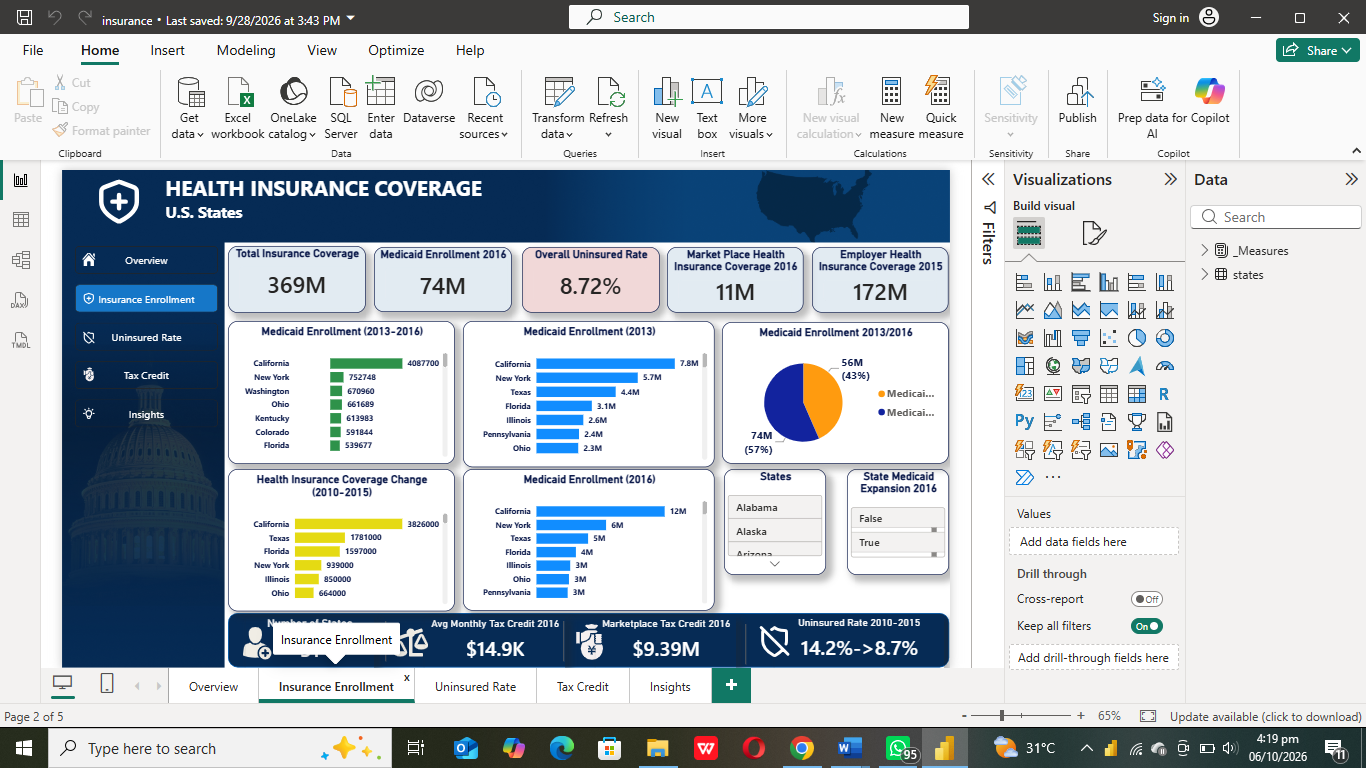

This screenshot's page, from the dashboard's own definition file:
{"tool":"powerbi","page":{"name":"Insurance Enrollment","canvas":[1366,768],"ordinal":1},"visuals":[{"type":"clusteredBarChart","title":"Medicaid Enrollment (2013-2016)","fields":{"Category":["states.State"],"Y":["Sum(states.Medicaid Enrollment Change (2013-2016))"]},"box":[255.4,232.3,349.1,220],"z":0,"group":"g6"},{"type":"shape","box":[254.7,682.1,1109.5,83.7],"z":0},{"type":"clusteredBarChart","title":"Medicaid Enrollment (2013)","fields":{"Category":["states.State"],"Y":["Sum(states.Medicaid Enrollment (2013))"]},"box":[617.5,232.3,386.8,224.5],"z":1000,"group":"g6"},{"type":"shape","box":[732,694.6,79,62.2],"z":1000},{"type":"clusteredBarChart","title":"Health Insurance Coverage Change (2010-2015)","fields":{"Category":["states.State"],"Y":["Sum(states.Health Insurance Coverage Change (2010-2015))"]},"box":[255.6,459.5,349.1,218.9],"z":2000,"group":"g6"},{"type":"shape","box":[1011.6,698.1,79,62.2],"z":2000},{"type":"cardVisual","title":"States","fields":{"Rows":["states.State"]},"box":[1018.4,459.9,157.2,163],"z":3000,"group":"g6"},{"type":"shape","box":[457.7,694.6,79,62.2],"z":3000},{"type":"cardVisual","title":"State Medicaid Expansion 2016","fields":{"Rows":["states.State Medicaid Expansion (2016)"]},"box":[1207.4,459.9,157.2,163],"z":4000,"group":"g6"},{"type":"group","id":"g1","title":"Group 8","box":[276.1,697,50.4,62.2],"z":4000},{"type":"clusteredBarChart","title":"Medicaid Enrollment (2016)","fields":{"Category":["states.State"],"Y":["Sum(states.Medicaid Enrollment (2016))"]},"box":[617.5,459.9,386.8,218.4],"z":5000,"group":"g6"},{"type":"group","id":"g2","title":"Group 9","box":[504,699.9,64.1,53.4],"z":5000},{"type":"pieChart","title":"Medicaid Enrollment 2013/2016","fields":{"Y":["_Measures.Medicaid enrollment 2013","_Measures.Medicaid enrollment 2016"]},"box":[1015.3,234.1,349.3,217.9],"z":6000,"group":"g6"},{"type":"group","id":"g3","title":"Group 10","box":[765.8,698.1,90.8,55.2],"z":6000},{"type":"group","id":"g4","title":"Group 11","box":[1050.8,696.4,92.6,55.2],"z":7000},{"type":"cardVisual","title":"Avg Monthly Tax Credit 2016","fields":{"Data":["_Measures.Total Average Monthly Tax Credit 2016"]},"box":[559.2,687.5,216.5,80],"z":8000},{"type":"cardVisual","title":"Number of States","fields":{"Data":["_Measures.total states"]},"box":[283.2,687.4,196.5,80.6],"z":9000},{"type":"cardVisual","title":"Marketplace Tax Credit 2016","fields":{"Data":["_Measures.Total Marketplace Tax Credit 2016"]},"box":[821,687.5,216.5,80],"z":10000},{"type":"cardVisual","title":"Uninsured Rate 2010-2015","fields":{"Data":["_Measures.Uninsured Rate"]},"box":[1097.1,685.7,260,80.1],"z":11000},{"type":"textbox","box":[153.3,0,860,103.3],"z":12000},{"type":"group","id":"g5","title":"Group 2","box":[255.4,116.9,1109.2,103.1],"z":13000},{"type":"cardVisual","title":"Total Insurance Coverage","fields":{"Data":["_Measures.total insurance coverage"]},"box":[255.4,116.9,211.9,102.6],"z":14000,"group":"g5"},{"type":"group","id":"g6","title":"Group 1","box":[255.4,232.3,1109.2,446.2],"z":14000},{"type":"pageNavigator","box":[20,116.9,220,281.5],"z":15000},{"type":"cardVisual","title":"Overall Uninsured Rate ","fields":{"Data":["Avg(states.Uninsured Rate (2015))"]},"box":[707.6,118.7,211.8,101.3],"z":15000,"group":"g5"},{"type":"image","box":[30.5,123.8,21.2,29.1],"z":16000},{"type":"image","box":[765.8,698.1,90.7,55.4],"z":16000,"group":"g3"},{"type":"cardVisual","title":"Employer Health Insurance Coverage  2015","fields":{"Data":["_Measures.Employer Health Insurance Coverage 2015"]},"box":[1154.5,118.7,210.1,100.8],"z":17000,"group":"g5"},{"type":"image","box":[30.5,183.4,21.2,29.1],"z":17000},{"type":"image","box":[276.1,697,50.4,62.2],"z":17000,"group":"g1"},{"type":"cardVisual","title":"Market Place Health Insurance Coverage 2016","fields":{"Data":["_Measures.Market Place Health Insurance 2016"]},"box":[930.2,118.7,210.1,100.8],"z":18000,"group":"g5"},{"type":"image","box":[30.4,242.5,21.2,29.1],"z":18000},{"type":"image","box":[504,699.9,63.8,53.8],"z":18000,"group":"g2"},{"type":"cardVisual","title":"Medicaid Enrollment 2016","fields":{"Data":["_Measures.Medicaid enrollment 2016"]},"box":[479.7,118.7,211.8,100],"z":19000,"group":"g5"},{"type":"image","box":[30.3,300,21.2,29.1],"z":19000},{"type":"image","box":[30.7,359.5,21.2,29.1],"z":20000},{"type":"image","box":[30.8,7,113.8,81.5],"z":21000},{"type":"image","box":[1050.8,696.4,90.7,55.4],"z":23000,"group":"g4"}]}

Visuals, with their boxes on the page's 1366x768 design canvas (x1, y1, x2, y2). These are canvas units, not pixel positions in the 1366x768 screenshot, which may show the page scaled, cropped or inside an application window:
"Medicaid Enrollment (2013-2016)" clusteredBarChart: bbox=(255, 232, 604, 452)
shape: bbox=(255, 682, 1364, 766)
"Medicaid Enrollment (2013)" clusteredBarChart: bbox=(618, 232, 1004, 457)
shape: bbox=(732, 695, 811, 757)
"Health Insurance Coverage Change (2010-2015)" clusteredBarChart: bbox=(256, 460, 605, 678)
shape: bbox=(1012, 698, 1091, 760)
"States" cardVisual: bbox=(1018, 460, 1176, 623)
shape: bbox=(458, 695, 537, 757)
"State Medicaid Expansion 2016" cardVisual: bbox=(1207, 460, 1365, 623)
"Group 8" group: bbox=(276, 697, 326, 759)
"Medicaid Enrollment (2016)" clusteredBarChart: bbox=(618, 460, 1004, 678)
"Group 9" group: bbox=(504, 700, 568, 753)
"Medicaid Enrollment 2013/2016" pieChart: bbox=(1015, 234, 1365, 452)
"Group 10" group: bbox=(766, 698, 857, 753)
"Group 11" group: bbox=(1051, 696, 1143, 752)
"Avg Monthly Tax Credit 2016" cardVisual: bbox=(559, 688, 776, 768)
"Number of States" cardVisual: bbox=(283, 687, 480, 768)
"Marketplace Tax Credit 2016" cardVisual: bbox=(821, 688, 1038, 768)
"Uninsured Rate 2010-2015" cardVisual: bbox=(1097, 686, 1357, 766)
textbox: bbox=(153, 0, 1013, 103)
"Group 2" group: bbox=(255, 117, 1365, 220)
"Total Insurance Coverage" cardVisual: bbox=(255, 117, 467, 220)
"Group 1" group: bbox=(255, 232, 1365, 678)
pageNavigator: bbox=(20, 117, 240, 398)
"Overall Uninsured Rate " cardVisual: bbox=(708, 119, 919, 220)
image: bbox=(30, 124, 52, 153)
image: bbox=(766, 698, 856, 754)
"Employer Health Insurance Coverage  2015" cardVisual: bbox=(1154, 119, 1365, 220)
image: bbox=(30, 183, 52, 212)
image: bbox=(276, 697, 326, 759)
"Market Place Health Insurance Coverage 2016" cardVisual: bbox=(930, 119, 1140, 220)
image: bbox=(30, 242, 52, 272)
image: bbox=(504, 700, 568, 754)
"Medicaid Enrollment 2016" cardVisual: bbox=(480, 119, 692, 219)
image: bbox=(30, 300, 52, 329)
image: bbox=(31, 360, 52, 389)
image: bbox=(31, 7, 145, 88)
image: bbox=(1051, 696, 1142, 752)
